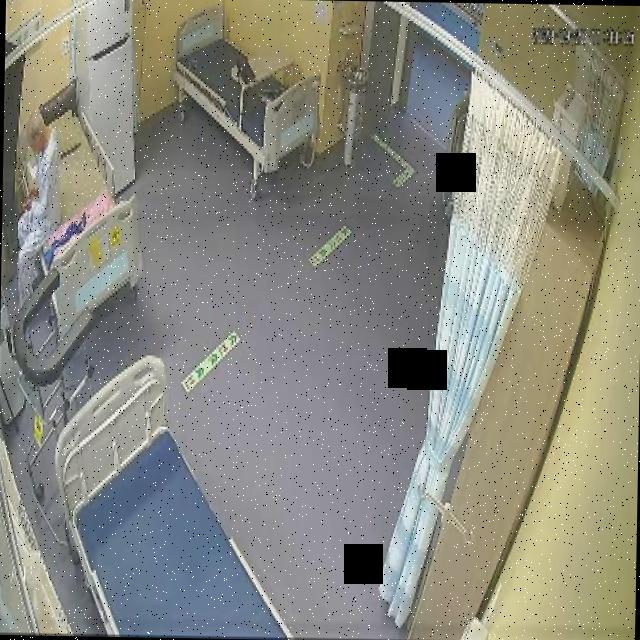bed: (49, 350, 294, 640), (13, 96, 144, 323), (174, 5, 322, 171)
patient: (9, 104, 64, 312)
sit: (10, 105, 62, 314)
walker: (11, 266, 93, 538)
